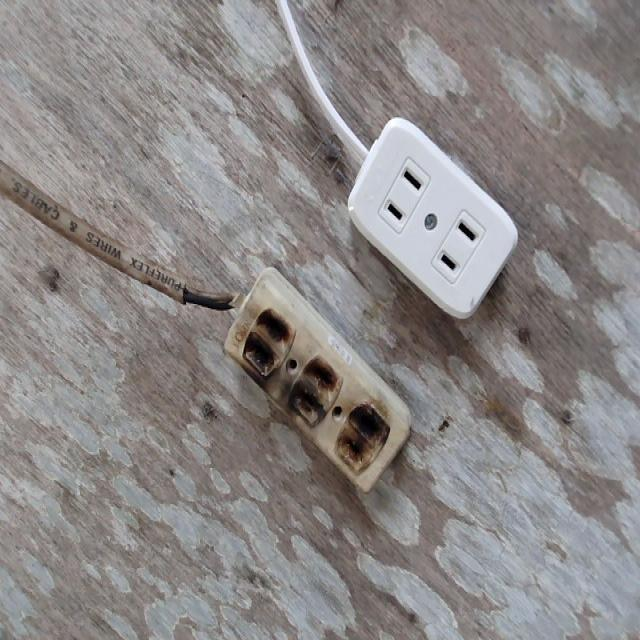-: (234, 303, 395, 488)
